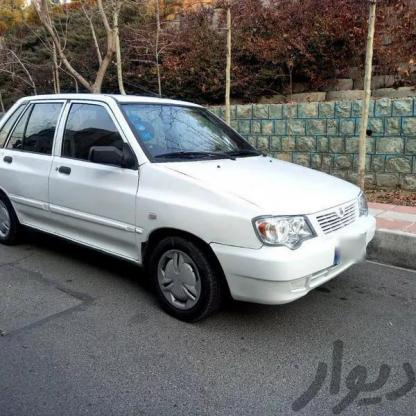Car: (0, 83, 368, 334)
